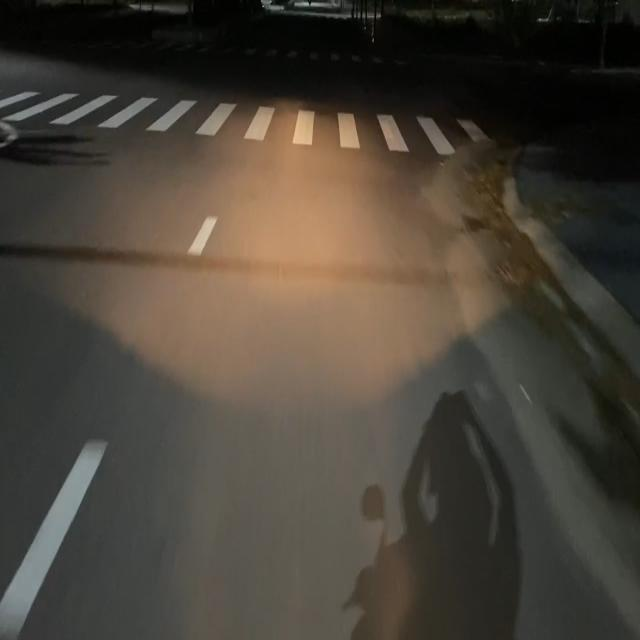walk-crossing: (5, 88, 495, 158)
